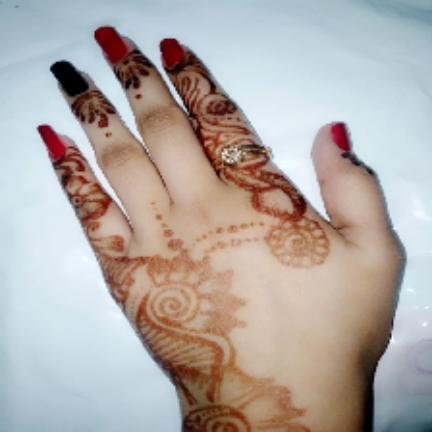Nail: (50, 61, 89, 96), (94, 26, 127, 63), (37, 124, 66, 158), (160, 39, 184, 66), (331, 122, 350, 151)
